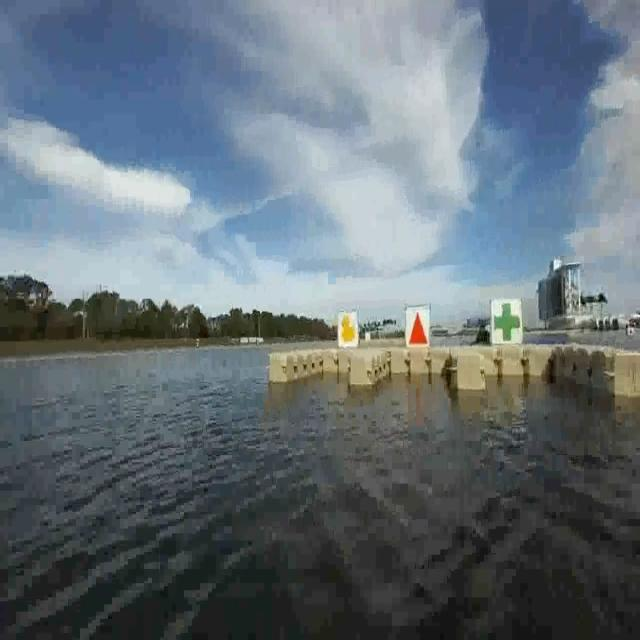blue-cross: (491, 299, 524, 348)
red-dot: (403, 306, 430, 346)
yellow-duck: (335, 311, 357, 346)
